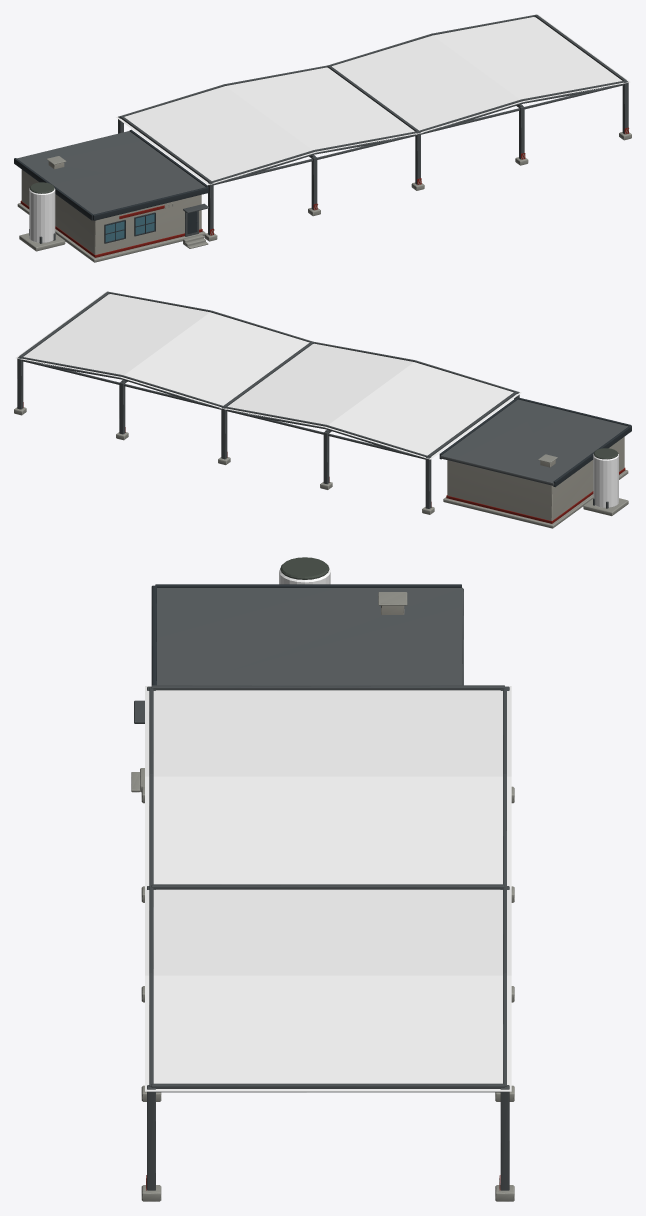
The model's file is earthworks_facility_medium.obj.
3 views of the same model, one above another, from view 1: azimuth 30°, elevation 25°; view 2: azimuth 150°, elevation 25°; view 3: azimuth 270°, elevation 25° (orthographic). The views are drawn at different scales.
Parts seen in each view (by area): view 1: mesh_corrugated_galvanized_roof, mesh_office_roof_graphite, mesh_canopy_structural_steel, mesh_dispatch_concrete, mesh_window_frames, mesh_foundation_concrete, mesh_decorative_tank_painted_steel, mesh_safety_red, mesh_office_window_glass; view 2: mesh_corrugated_galvanized_roof, mesh_office_roof_graphite, mesh_canopy_structural_steel, mesh_dispatch_concrete, mesh_foundation_concrete, mesh_decorative_tank_painted_steel, mesh_window_frames, mesh_safety_red; view 3: mesh_corrugated_galvanized_roof, mesh_office_roof_graphite, mesh_canopy_structural_steel, mesh_foundation_concrete, mesh_window_frames, mesh_tank_cap_steel.
Part boxes in pixels (<box>): mesh_corrugated_galvanized_roof: <box>116,14,630,184</box>; mesh_office_roof_graphite: <box>17,131,205,214</box>; mesh_canopy_structural_steel: <box>29,14,628,243</box>; mesh_dispatch_concrete: <box>21,161,201,254</box>; mesh_window_frames: <box>14,129,208,243</box>; mesh_foundation_concrete: <box>17,128,631,262</box>; mesh_decorative_tank_painted_steel: <box>29,188,55,242</box>; mesh_safety_red: <box>20,127,628,257</box>; mesh_office_window_glass: <box>105,214,154,241</box>; mesh_corrugated_galvanized_roof: <box>15,291,521,459</box>; mesh_office_roof_graphite: <box>440,399,628,485</box>; mesh_canopy_structural_steel: <box>17,291,608,508</box>; mesh_dispatch_concrete: <box>447,437,624,520</box>; mesh_foundation_concrete: <box>14,407,628,528</box>; mesh_decorative_tank_painted_steel: <box>593,454,618,507</box>; mesh_window_frames: <box>439,397,631,487</box>; mesh_safety_red: <box>23,402,625,523</box>; mesh_corrugated_galvanized_roof: <box>145,686,511,1091</box>; mesh_office_roof_graphite: <box>157,587,463,685</box>; mesh_canopy_structural_steel: <box>134,685,509,1190</box>; mesh_foundation_concrete: <box>131,592,514,1201</box>; mesh_window_frames: <box>151,584,461,685</box>; mesh_tank_cap_steel: <box>280,557,329,579</box>.
Bounding box in the file's own units: 68.48 × 7.39 × 20.51.
